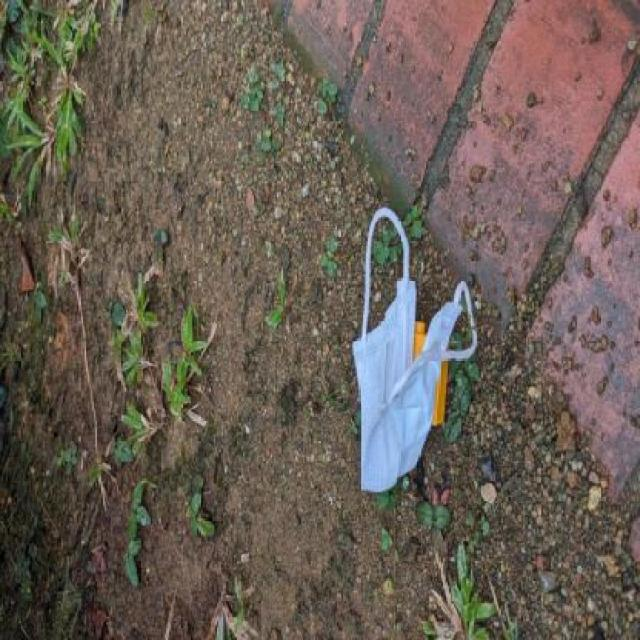B3: (336, 201, 489, 513)
